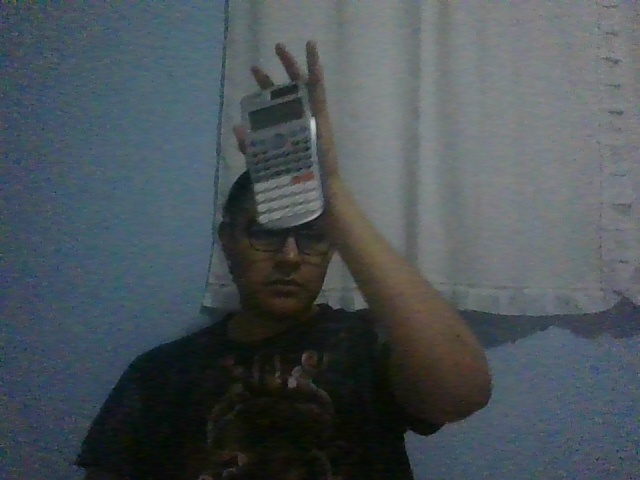calculadora: (240, 81, 326, 231)
